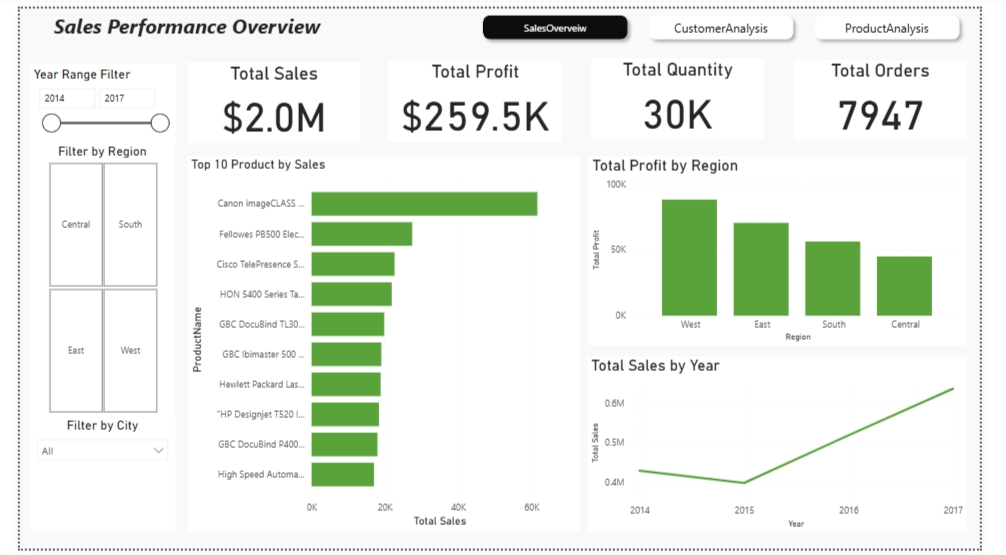

Layout of this report page (visuals, bound fields, positions):
{"tool":"powerbi","page":{"name":"SalesOverveiw","canvas":[1280,720],"ordinal":0},"visuals":[{"type":"textbox","box":[0,0,1280,67.1],"z":0},{"type":"card","title":"Total Sales","fields":{"Values":["Sum(FactOrders.Sales)"]},"box":[222.9,71.4,231.4,107.1],"z":1000},{"type":"lineChart","fields":{"Y":["Sum(FactOrders.Sales)"],"Category":["DimDates.Year"]},"box":[757.1,462.9,505.7,234.3],"z":2000},{"type":"columnChart","title":" Total Profit by Region","fields":{"Category":["DimCustomers.Region"],"Y":["Sum(FactOrders.Profit)"]},"box":[758.6,197.1,504.3,252.9],"z":3000},{"type":"card","title":"Total Profit","fields":{"Values":["Sum(FactOrders.Profit)"]},"box":[492.4,70,231.4,107.1],"z":4000},{"type":"card","title":"Total Quantity","fields":{"Values":["Sum(FactOrders.Quantity)"]},"box":[761.9,67.1,231.4,107.1],"z":5000},{"type":"card","title":"Total Orders","fields":{"Values":["FactOrders.Total Orders"]},"box":[1031.4,68.6,231.4,107.1],"z":6000},{"type":"slicer","title":"Year Range Filter","fields":{"Values":["DimDates.Year"]},"box":[12.9,72.9,194.3,107.1],"z":7000},{"type":"slicer","title":"Filter by Region","fields":{"Values":["DimCustomers.Region"]},"box":[13.3,175,193.3,370],"z":8000},{"type":"slicer","title":"Filter by City","fields":{"Values":["DimCustomers.City"]},"box":[12.9,545.7,194.3,151.4],"z":9000},{"type":"pageNavigator","box":[608.6,0,654.3,50],"z":10000},{"type":"barChart","title":"Top 10 Product by Sales","fields":{"Y":["Sum(FactOrders.Sales)"],"Category":["DimProducts.ProductName"]},"box":[222.9,197.1,522.9,500],"z":11000}]}

Visuals, with their boxes in screenshot pixels (x1, y1, x2, y2), scaled from the page's 1280x720 canvas onto the 1006x555 screenshot:
textbox: [left=0, top=0, right=1005, bottom=52]
"Total Sales" card: [left=175, top=55, right=357, bottom=138]
lineChart - Sum(FactOrders.Sales) x DimDates.Year: [left=595, top=357, right=992, bottom=537]
" Total Profit by Region" columnChart: [left=596, top=152, right=993, bottom=347]
"Total Profit" card: [left=387, top=54, right=569, bottom=137]
"Total Quantity" card: [left=599, top=52, right=781, bottom=134]
"Total Orders" card: [left=811, top=53, right=992, bottom=135]
"Year Range Filter" slicer: [left=10, top=56, right=163, bottom=139]
"Filter by Region" slicer: [left=10, top=135, right=162, bottom=420]
"Filter by City" slicer: [left=10, top=421, right=163, bottom=537]
pageNavigator: [left=478, top=0, right=993, bottom=39]
"Top 10 Product by Sales" barChart: [left=175, top=152, right=586, bottom=537]
